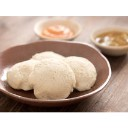idly: (33, 59, 75, 99), (65, 55, 96, 90), (7, 60, 37, 91)
